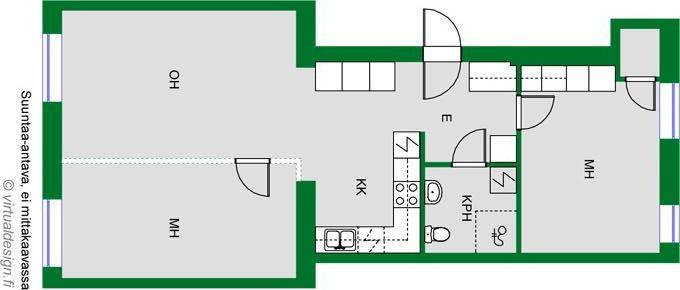door: (420, 7, 462, 62), (422, 49, 462, 101), (514, 94, 558, 132), (234, 154, 270, 198), (450, 128, 488, 169), (626, 76, 658, 112)
window: (41, 196, 64, 270), (42, 29, 63, 107), (656, 78, 680, 142), (657, 201, 680, 247)
